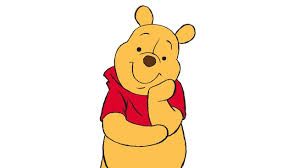Winnie: (107, 7, 195, 119)
